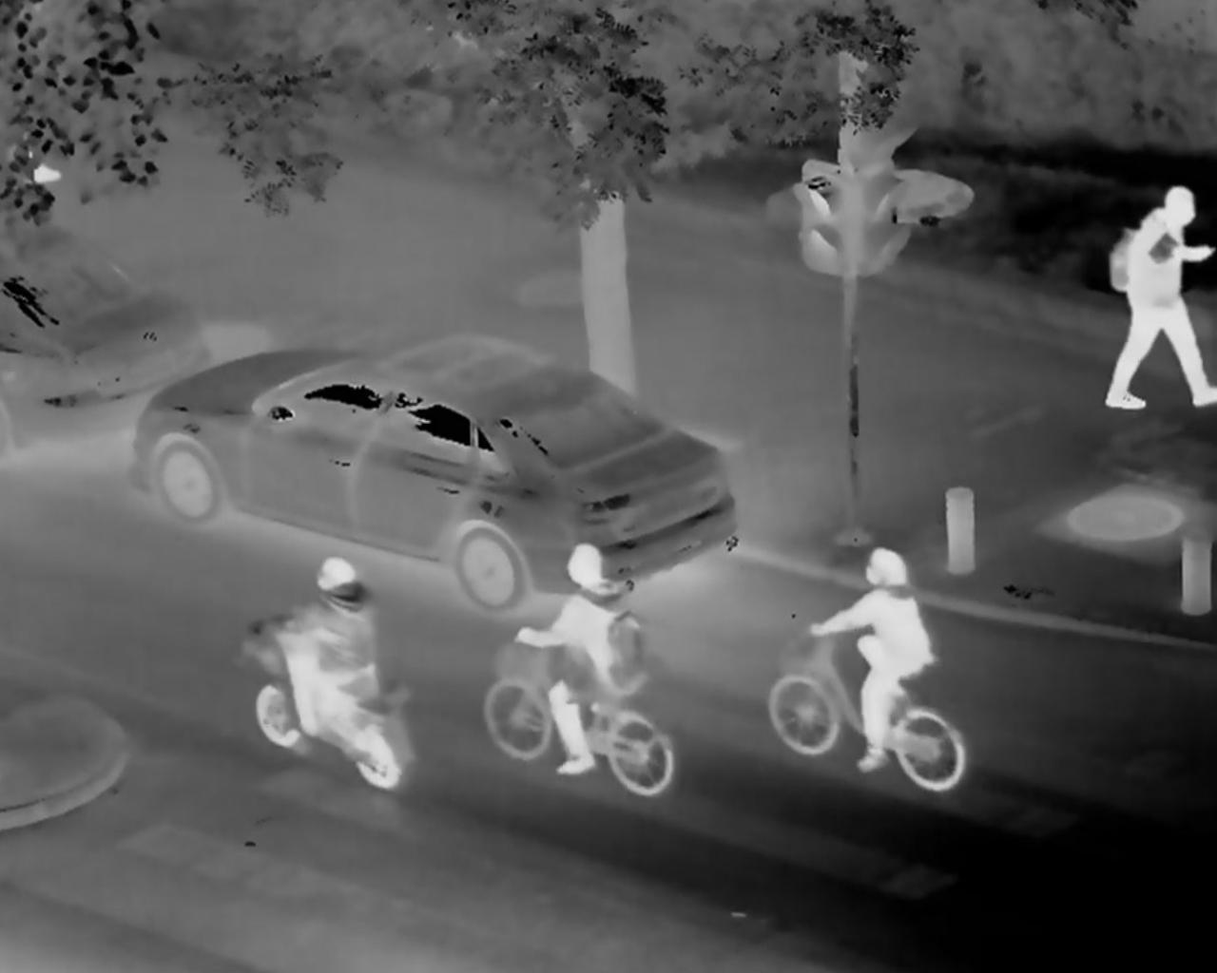person: (522, 539, 665, 791), (809, 544, 945, 786), (1097, 178, 1217, 429), (277, 561, 398, 769)
